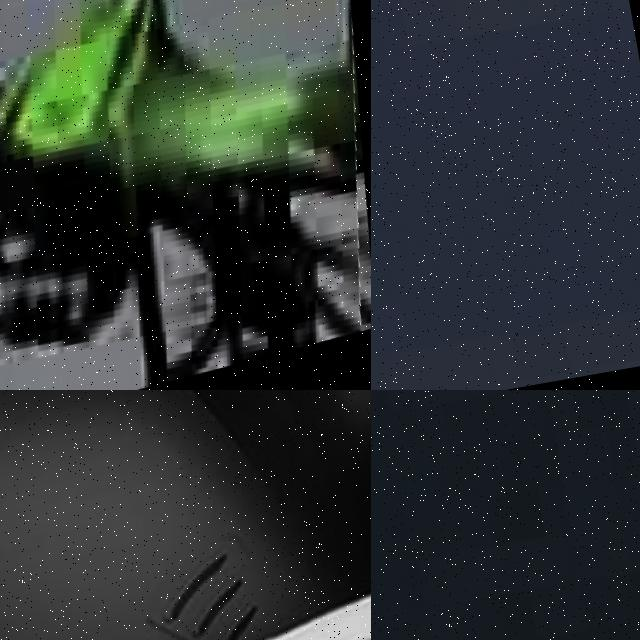drone: (0, 0, 371, 390), (0, 390, 371, 640)
